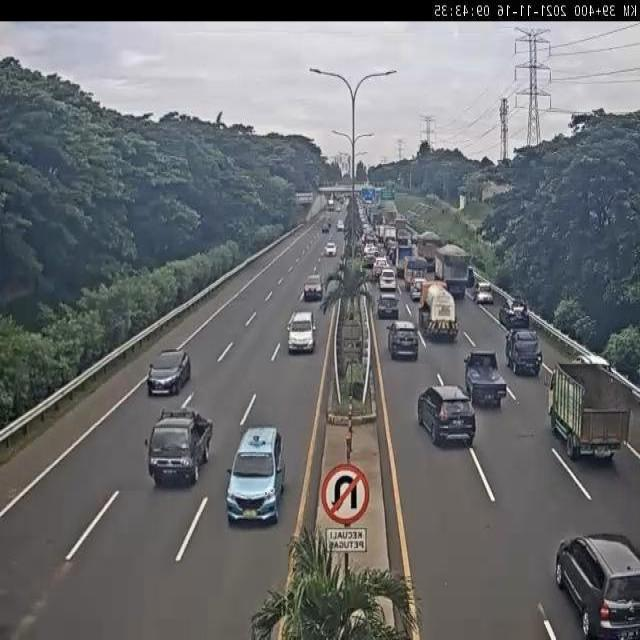Car: (554, 534, 640, 639), (226, 424, 286, 524), (146, 406, 213, 487), (418, 384, 477, 446), (463, 350, 507, 408), (147, 350, 190, 395), (506, 328, 543, 377), (386, 320, 419, 360), (286, 310, 316, 354), (499, 297, 529, 329), (377, 292, 400, 319), (303, 275, 324, 302), (474, 281, 494, 305), (379, 268, 397, 292), (409, 278, 425, 302), (372, 257, 387, 279), (324, 242, 337, 256), (322, 222, 330, 233), (337, 219, 344, 231)
Truck: (545, 362, 630, 463), (420, 281, 460, 340), (436, 244, 469, 300)
